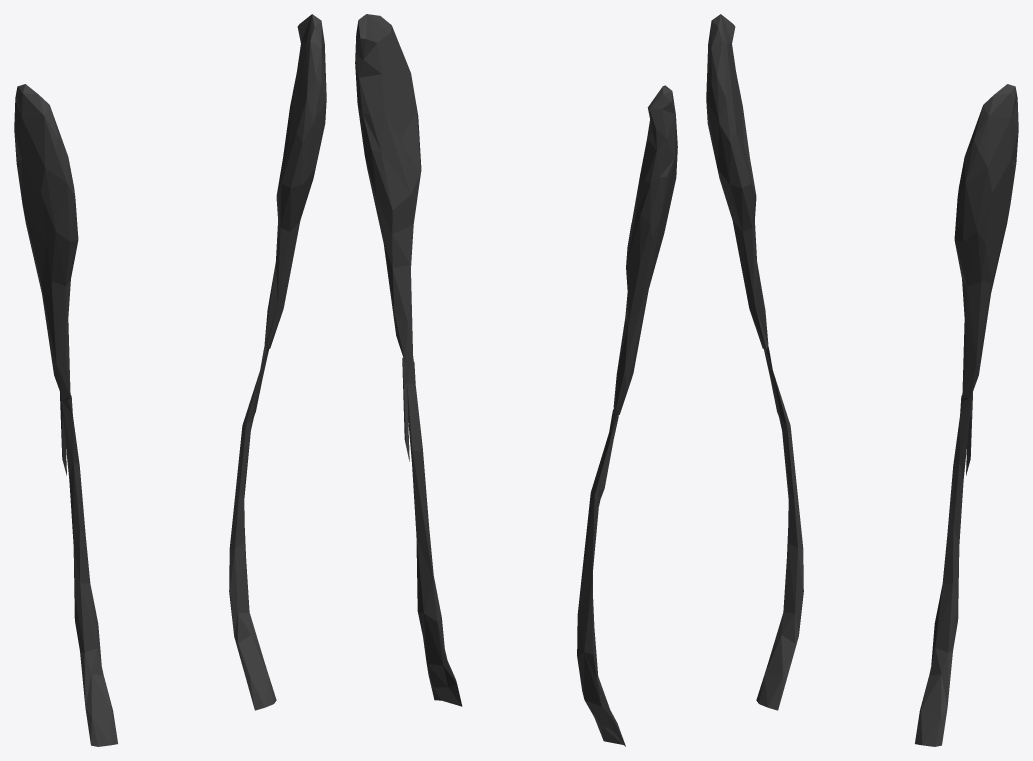
File: m_extensor_digitorum_communis_1.glb
3 renders of one model, left to right at view 1: azimuth 30°, elevation 25°; view 2: azimuth 150°, elevation 25°; view 3: azimuth 330°, elevation 25°, orthographic. The views are drawn at different scales.
Visible parts, largest first — view 1: m_extensor_digitorum_communis_1; view 2: m_extensor_digitorum_communis_1; view 3: m_extensor_digitorum_communis_1.
Part boxes in pixels (x1,y1,x2,y2): m_extensor_digitorum_communis_1: (14, 14, 326, 746); m_extensor_digitorum_communis_1: (355, 14, 677, 746); m_extensor_digitorum_communis_1: (706, 14, 1018, 746).
Size of the model in its own units: 0.00647 by 0.0136 by 0.00124.
Materials: 1 (1 with a texture image).
